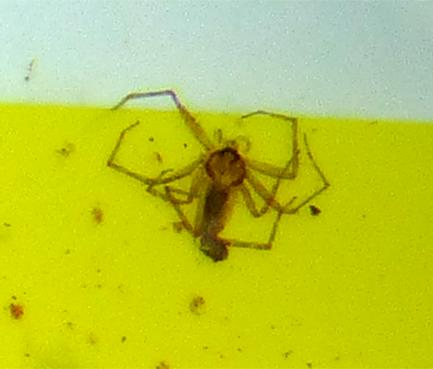Araneae: (100, 100, 333, 269)
